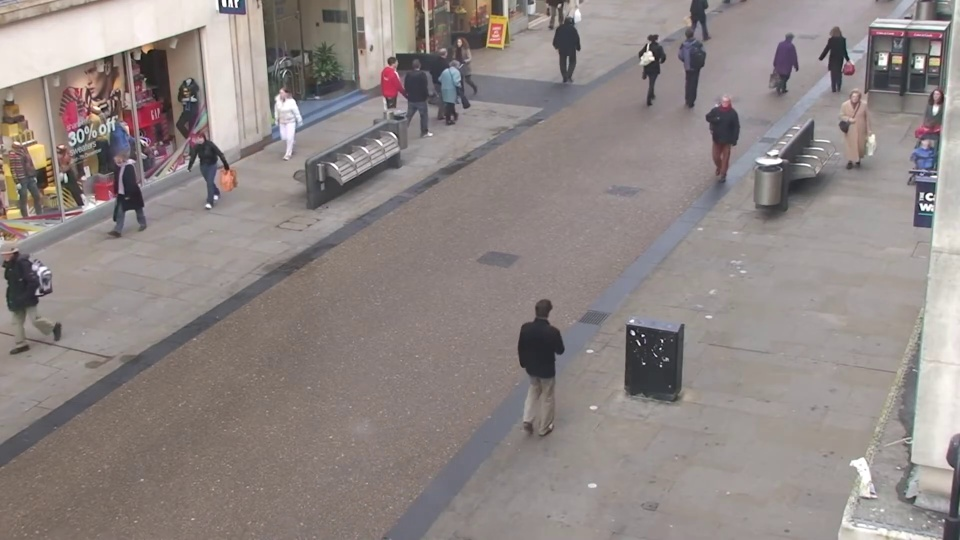pedestrian: (530, 284, 574, 424), (895, 137, 943, 242), (95, 149, 140, 251), (908, 89, 954, 183), (180, 129, 220, 225), (832, 88, 869, 179), (706, 94, 737, 185), (265, 84, 297, 169), (817, 24, 849, 98), (445, 55, 473, 133), (410, 54, 438, 132), (383, 51, 411, 128), (777, 27, 806, 100), (432, 46, 459, 121), (443, 35, 469, 108), (679, 26, 704, 98), (643, 27, 667, 99), (560, 11, 583, 77)
